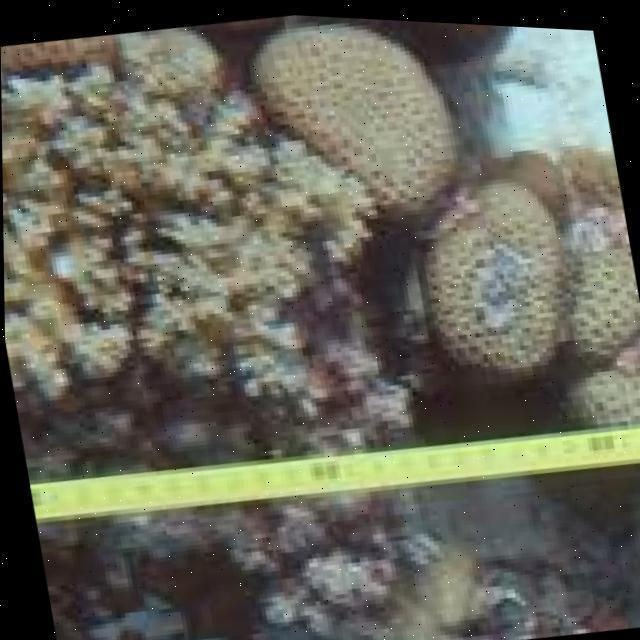Bleached Coral: (0, 16, 441, 507)
